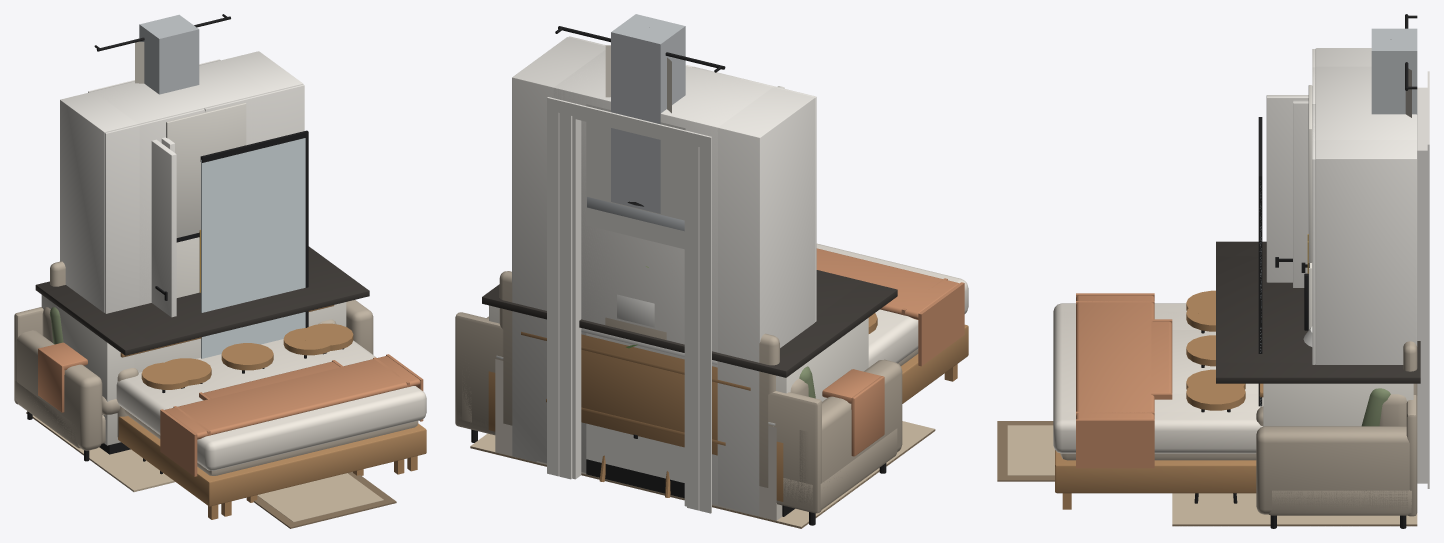
The model's file is interieur.glb.
The picture shows the model from 3 angles, left to right: view 1: azimuth 30°, elevation 25°; view 2: azimuth 150°, elevation 25°; view 3: azimuth 270°, elevation 25°; orthographic projection. The views are drawn at different scales.
Visible parts, largest first — view 1: slaapkamer_kleerkast_150, slaapkamer_bed_160, badkamer_douche_120, slaapkamer_bed_140, keuken_eiland_180, leefruimte_zetel_3zit, slaapkamer_kleerkast_100, keuken_eiland_140, keuken_koelkastkolom_60, hal_loper, algemeen_deur_85, keuken_dampkap_60 (+3 smaller); view 2: slaapkamer_kleerkast_150, leefruimte_zetel_3zit, slaapkamer_kleerkast_100, algemeen_deur_70, slaapkamer_bed_160, keuken_dampkap_60, algemeen_deur_85, badkamer_badmeubel_100, keuken_eiland_180, keuken_bovenkast_60, keuken_onderkast_60, keuken_eiland_140 (+7 smaller); view 3: slaapkamer_kleerkast_150, slaapkamer_bed_160, leefruimte_zetel_3zit, keuken_eiland_180, algemeen_deur_85, keuken_eiland_140, slaapkamer_bed_140, slaapkamer_kleerkast_100, slaapkamer_kleed, keuken_dampkap_60, hal_loper, algemeen_deur_70 (+4 smaller).
Part boxes in pixels (x1,y1,x2,y2): slaapkamer_kleerkast_150: (60, 51, 304, 313); slaapkamer_bed_160: (50, 261, 426, 519); badkamer_douche_120: (200, 130, 308, 358); slaapkamer_bed_140: (138, 349, 412, 516); keuken_eiland_180: (35, 246, 369, 474); leefruimte_zetel_3zit: (14, 300, 373, 461); slaapkamer_kleerkast_100: (96, 59, 270, 305); keuken_eiland_140: (110, 272, 342, 388); keuken_koelkastkolom_60: (166, 102, 246, 297); hal_loper: (254, 471, 396, 528); algemeen_deur_85: (88, 59, 220, 317); keuken_dampkap_60: (139, 14, 199, 94); slaapkamer_kleerkast_150: (512, 36, 816, 516); leefruimte_zetel_3zit: (455, 312, 902, 525); slaapkamer_kleerkast_100: (553, 50, 774, 504); algemeen_deur_70: (559, 100, 699, 510); slaapkamer_bed_160: (499, 244, 968, 487); keuken_dampkap_60: (587, 14, 685, 231); algemeen_deur_85: (547, 86, 784, 513); badkamer_badmeubel_100: (581, 328, 717, 455); keuken_eiland_180: (482, 281, 897, 516); keuken_bovenkast_60: (586, 104, 685, 249); keuken_onderkast_60: (586, 333, 684, 498); keuken_eiland_140: (515, 270, 863, 369); slaapkamer_kleerkast_150: (1312, 48, 1417, 364); slaapkamer_bed_160: (1053, 293, 1417, 509); leefruimte_zetel_3zit: (1256, 388, 1417, 528); keuken_eiland_180: (1186, 241, 1420, 503); algemeen_deur_85: (1266, 71, 1429, 488); keuken_eiland_140: (1186, 256, 1420, 389); slaapkamer_bed_140: (1053, 301, 1263, 457); slaapkamer_kleerkast_100: (1307, 66, 1417, 273); slaapkamer_kleed: (1172, 493, 1417, 524); keuken_dampkap_60: (1371, 28, 1417, 114); hal_loper: (997, 421, 1054, 481); algemeen_deur_70: (1293, 81, 1429, 287).
Size of the model in its own units: 2.22 by 2.6 by 2.47.
